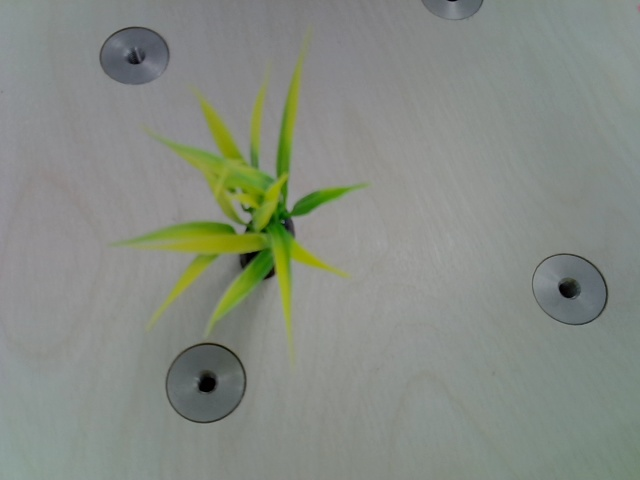해바라기새싹: (119, 44, 370, 356)
